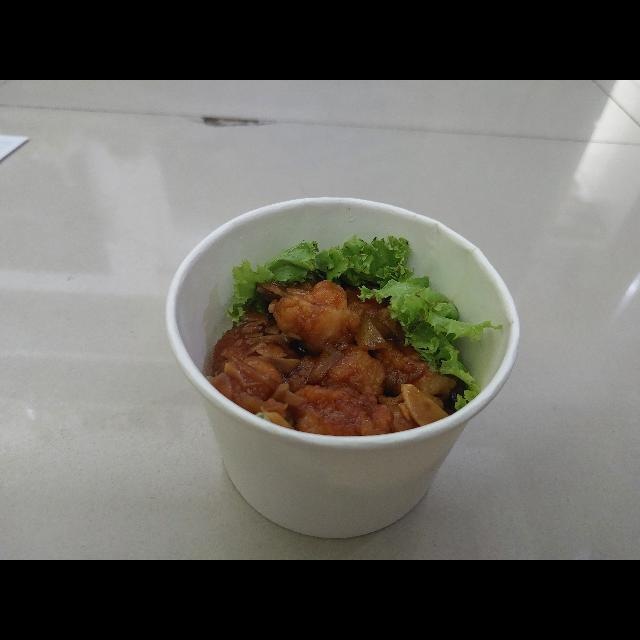rice-bowl: (153, 186, 535, 551)
